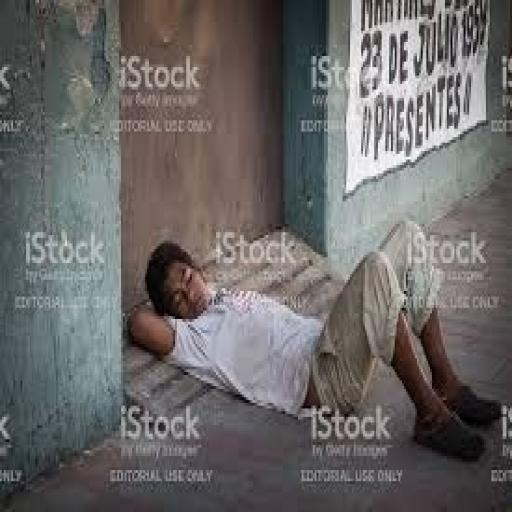sleeping: (125, 216, 501, 464)
